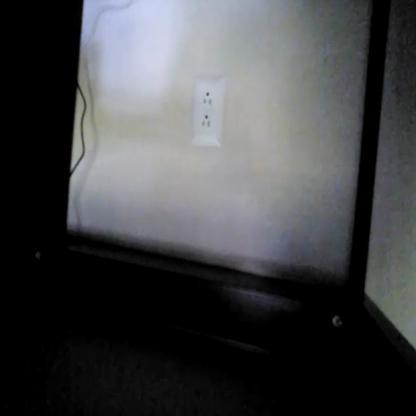OUTLET: (191, 75, 226, 147)
